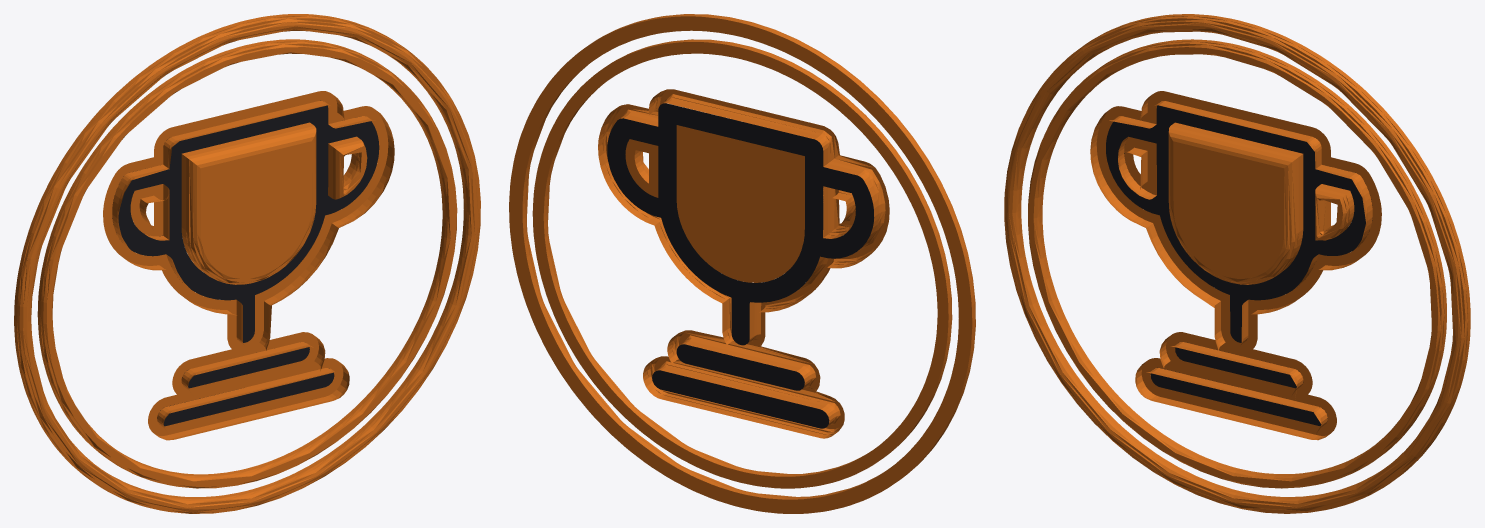
The model's file is records_t1.glb.
3 views of the same model, side by side, from view 1: azimuth 30°, elevation 25°; view 2: azimuth 150°, elevation 25°; view 3: azimuth 330°, elevation 25° (orthographic).
Parts seen in each view (by area): view 1: lines, mark, mark_channel; view 2: lines, mark, mark_channel; view 3: lines, mark, mark_channel.
Boxes of the visible parts, left/top/right/bottom form: lines: left=14, top=14, right=480, bottom=513; mark: left=103, top=91, right=394, bottom=440; mark_channel: left=112, top=100, right=379, bottom=426; lines: left=509, top=14, right=975, bottom=513; mark: left=598, top=89, right=889, bottom=438; mark_channel: left=607, top=103, right=874, bottom=428; lines: left=1004, top=14, right=1470, bottom=513; mark: left=1090, top=91, right=1381, bottom=440; mark_channel: left=1106, top=105, right=1372, bottom=425.
Size of the model in its own units: 0.758 by 0.758 by 0.03.
